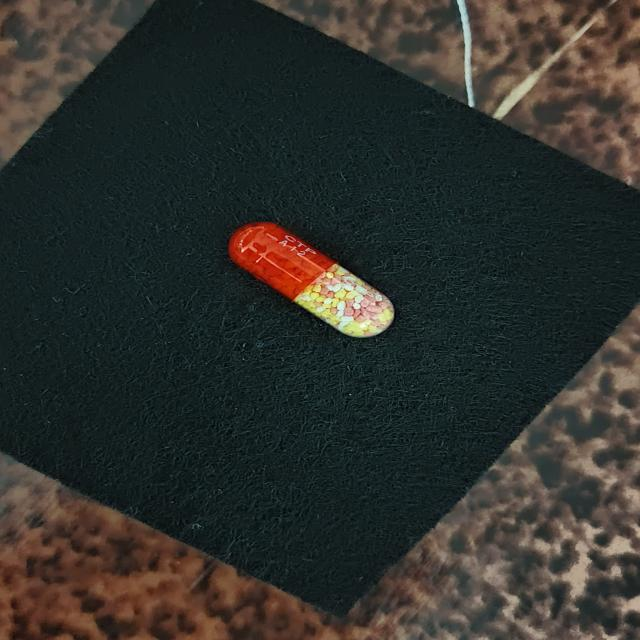Intact Capsule: (228, 222, 394, 337)
